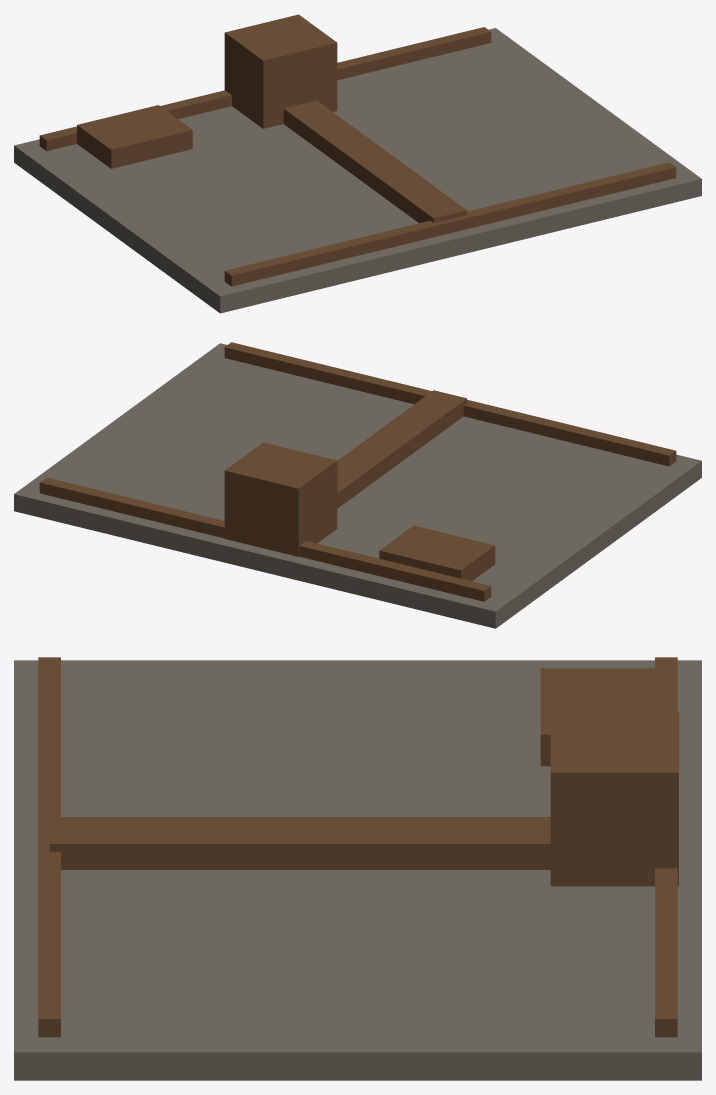
Rendered from aquaculture-pond.source.glb.
The picture shows the model from 3 angles, top to bottom: view 1: azimuth 30°, elevation 25°; view 2: azimuth 150°, elevation 25°; view 3: azimuth 270°, elevation 25°; orthographic projection. The views are drawn at different scales.
Visible parts, largest first — view 1: aquaculture-pond-shore-mesh, aquaculture-pond-pump-shed-mesh, aquaculture-pond-edge-2.16-mesh, aquaculture-pond-walkway-mesh, aquaculture-pond-feed-dock-mesh, aquaculture-pond-edge--2.16-mesh; view 2: aquaculture-pond-shore-mesh, aquaculture-pond-pump-shed-mesh, aquaculture-pond-edge-2.16-mesh, aquaculture-pond-edge--2.16-mesh, aquaculture-pond-walkway-mesh, aquaculture-pond-feed-dock-mesh; view 3: aquaculture-pond-shore-mesh, aquaculture-pond-walkway-mesh, aquaculture-pond-pump-shed-mesh, aquaculture-pond-edge-2.16-mesh, aquaculture-pond-feed-dock-mesh, aquaculture-pond-edge--2.16-mesh.
Boxes of the visible parts, left/top/right/bottom form: aquaculture-pond-shore-mesh: left=14, top=28, right=701, bottom=313; aquaculture-pond-pump-shed-mesh: left=224, top=14, right=337, bottom=128; aquaculture-pond-edge-2.16-mesh: left=224, top=162, right=676, bottom=286; aquaculture-pond-walkway-mesh: left=283, top=100, right=466, bottom=223; aquaculture-pond-feed-dock-mesh: left=77, top=105, right=192, bottom=168; aquaculture-pond-edge--2.16-mesh: left=39, top=27, right=491, bottom=151; aquaculture-pond-shore-mesh: left=14, top=343, right=701, bottom=628; aquaculture-pond-pump-shed-mesh: left=224, top=442, right=337, bottom=556; aquaculture-pond-edge-2.16-mesh: left=224, top=342, right=676, bottom=466; aquaculture-pond-edge--2.16-mesh: left=39, top=477, right=491, bottom=601; aquaculture-pond-walkway-mesh: left=337, top=390, right=466, bottom=508; aquaculture-pond-feed-dock-mesh: left=379, top=525, right=495, bottom=581; aquaculture-pond-shore-mesh: left=14, top=660, right=701, bottom=1080; aquaculture-pond-walkway-mesh: left=49, top=817, right=550, bottom=869; aquaculture-pond-pump-shed-mesh: left=550, top=712, right=678, bottom=886; aquaculture-pond-edge-2.16-mesh: left=38, top=657, right=60, bottom=1037; aquaculture-pond-feed-dock-mesh: left=540, top=668, right=654, bottom=766; aquaculture-pond-edge--2.16-mesh: left=655, top=657, right=677, bottom=1037.
Size of the model in its own units: 6.5 by 1.1 by 4.82.
